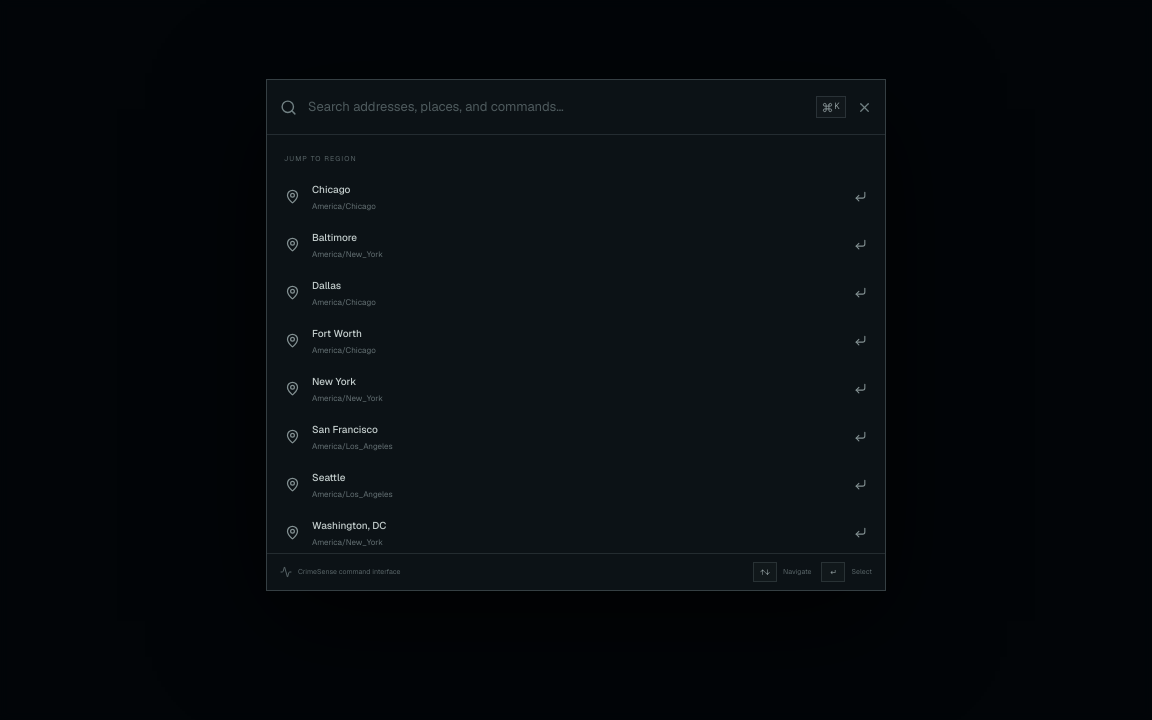
Test: location command palette › keeps provider failures inside the search UI
Type "Chicago IL" into the dropdown at (556, 107), box [308,97,805,117]
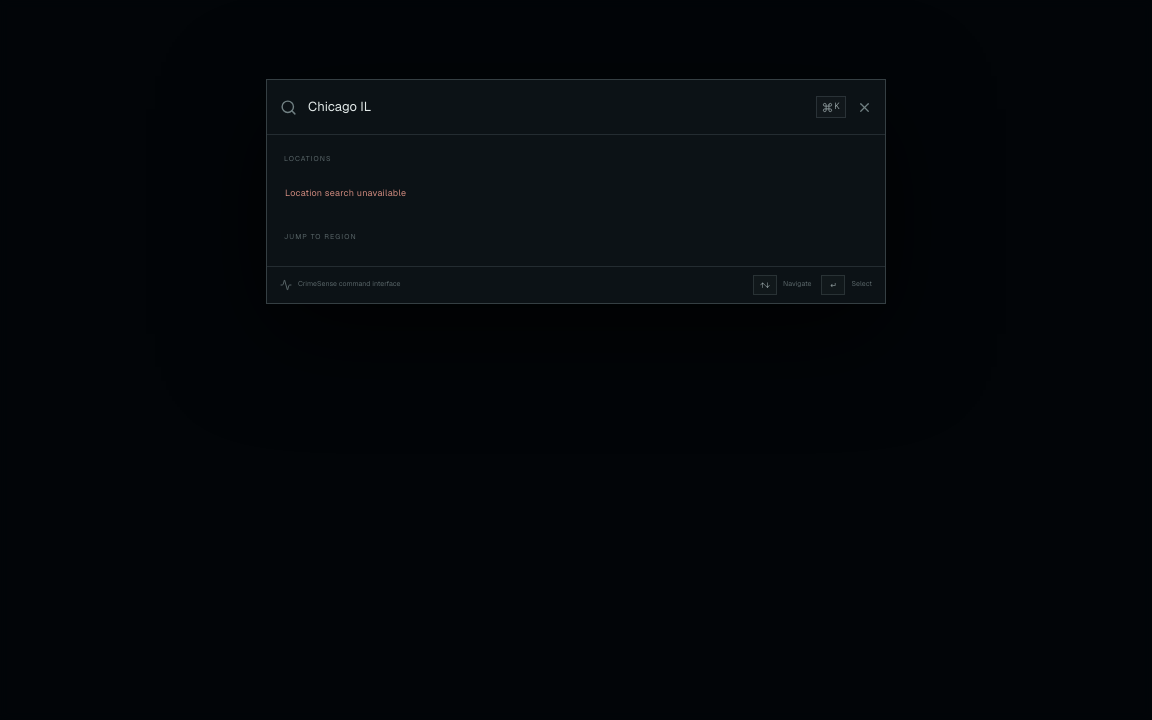
Expected: the text "Location search unavailable" is shown, [285,187,406,199]
